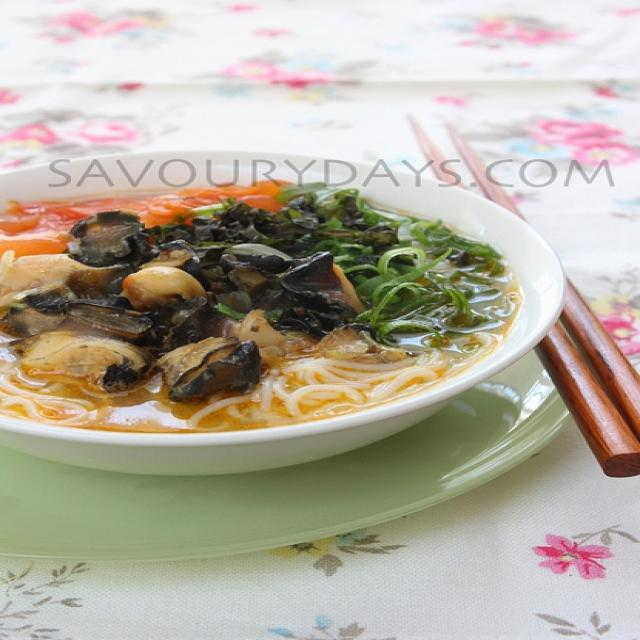面条主食: (5, 125, 563, 482)
